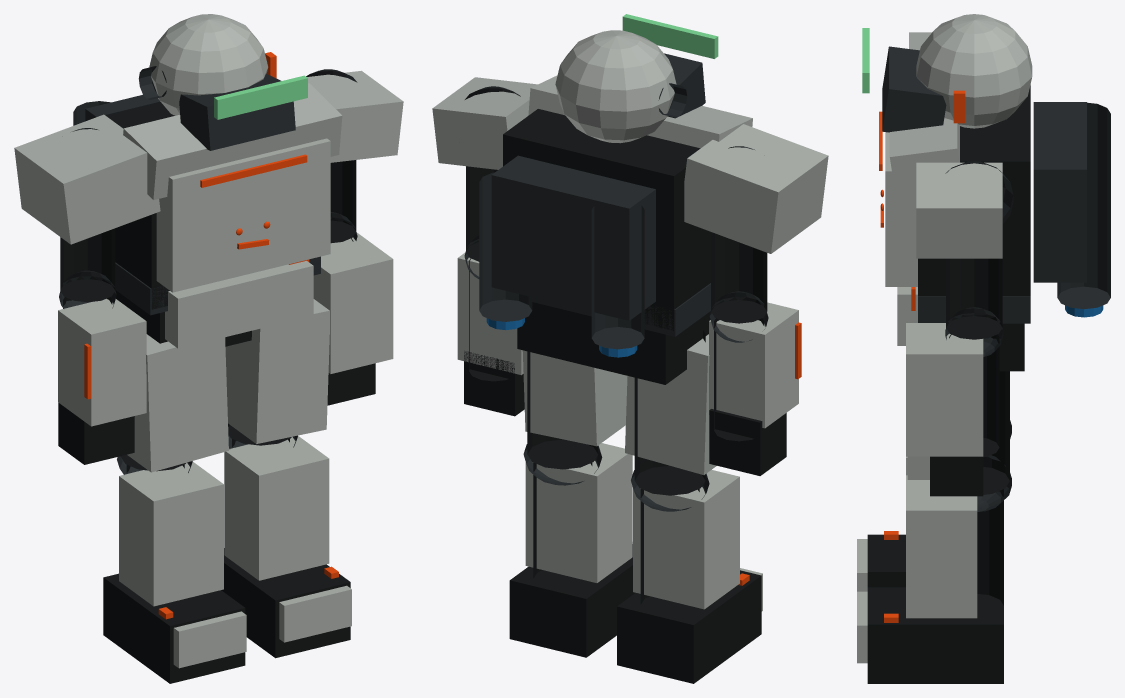
Rendered from yamada_k1_prototype_v1.obj.
3 renders of one model, left to right at view 1: azimuth 30°, elevation 25°; view 2: azimuth 150°, elevation 25°; view 3: azimuth 270°, elevation 25°, orthographic. The views are drawn at different scales.
Visible parts, largest first — view 1: VIS_CHEST_ARMOR, VIS_SHIN_ARMOR_R, VIS_SHIN_ARMOR_L, VIS_SHOULDER_ARMOR_L, VIS_THIGH_ARMOR_R, VIS_THIGH_ARMOR_L, VIS_FOREARM_ARMOR_L, VIS_FOREARM_ARMOR_R, VIS_PELVIS_ARMOR_FRONT, VIS_HELMET_CORE, VIS_CHEST_UPPER_PLATE, VIS_BOOT_L (+15 smaller); view 2: VIS_BACK_SERVICE_PACK, VIS_TORSO_UNDERSUIT, VIS_SHOULDER_ARMOR_L, VIS_SHIN_ARMOR_R, VIS_SHIN_ARMOR_L, VIS_HELMET_CORE, VIS_BOOT_L, VIS_BOOT_R, VIS_FOREARM_ARMOR_L, VIS_THIGH_ARMOR_L, VIS_THIGH_ARMOR_R, VIS_PELVIS_UNDERSUIT (+14 smaller); view 3: VIS_BOOT_R, VIS_FOREARM_ARMOR_R, VIS_BACK_SERVICE_PACK, VIS_HELMET_CORE, VIS_SHIN_ARMOR_R, VIS_SHOULDER_ARMOR_R, VIS_TORSO_UNDERSUIT, VIS_UPPER_ARM_R, VIS_JET_R, VIS_HELMET_JAW, VIS_CHEST_UPPER_PLATE, VIS_CHEST_ARMOR (+17 smaller).
Boxes of the visible parts, <box> form: VIS_CHEST_ARMOR: <box>156,138,330,292</box>; VIS_SHIN_ARMOR_R: <box>224,436,329,580</box>; VIS_SHIN_ARMOR_L: <box>119,462,223,606</box>; VIS_SHOULDER_ARMOR_L: <box>14,114,160,244</box>; VIS_THIGH_ARMOR_R: <box>225,299,329,443</box>; VIS_THIGH_ARMOR_L: <box>127,334,228,472</box>; VIS_FOREARM_ARMOR_L: <box>58,298,146,426</box>; VIS_FOREARM_ARMOR_R: <box>313,232,393,373</box>; VIS_PELVIS_ARMOR_FRONT: <box>165,260,313,348</box>; VIS_HELMET_CORE: <box>149,14,268,115</box>; VIS_CHEST_UPPER_PLATE: <box>123,83,342,199</box>; VIS_BOOT_L: <box>103,573,245,683</box>; VIS_BACK_SERVICE_PACK: <box>491,155,655,320</box>; VIS_TORSO_UNDERSUIT: <box>503,109,710,330</box>; VIS_SHOULDER_ARMOR_L: <box>684,124,828,253</box>; VIS_SHIN_ARMOR_R: <box>525,443,632,582</box>; VIS_SHIN_ARMOR_L: <box>633,470,739,609</box>; VIS_HELMET_CORE: <box>555,30,676,143</box>; VIS_BOOT_L: <box>617,570,761,683</box>; VIS_BOOT_R: <box>509,544,635,657</box>; VIS_FOREARM_ARMOR_L: <box>709,302,798,428</box>; VIS_THIGH_ARMOR_L: <box>625,334,716,474</box>; VIS_THIGH_ARMOR_R: <box>522,350,627,446</box>; VIS_PELVIS_UNDERSUIT: <box>517,302,710,384</box>; VIS_BOOT_R: <box>867,587,1003,683</box>; VIS_FOREARM_ARMOR_R: <box>906,323,983,456</box>; VIS_BACK_SERVICE_PACK: <box>1033,102,1086,282</box>; VIS_HELMET_CORE: <box>916,14,1032,128</box>; VIS_SHIN_ARMOR_R: <box>906,475,977,618</box>; VIS_SHOULDER_ARMOR_R: <box>916,162,1002,258</box>; VIS_TORSO_UNDERSUIT: <box>918,85,1030,296</box>; VIS_UPPER_ARM_R: <box>946,258,1002,339</box>; VIS_JET_R: <box>1057,158,1110,309</box>; VIS_HELMET_JAW: <box>882,46,946,132</box>; VIS_CHEST_UPPER_PLATE: <box>889,118,959,199</box>; VIS_CHEST_ARMOR: <box>885,132,917,286</box>.
Bounding box in the file's own units: 1.37 × 2.3 × 0.855.
